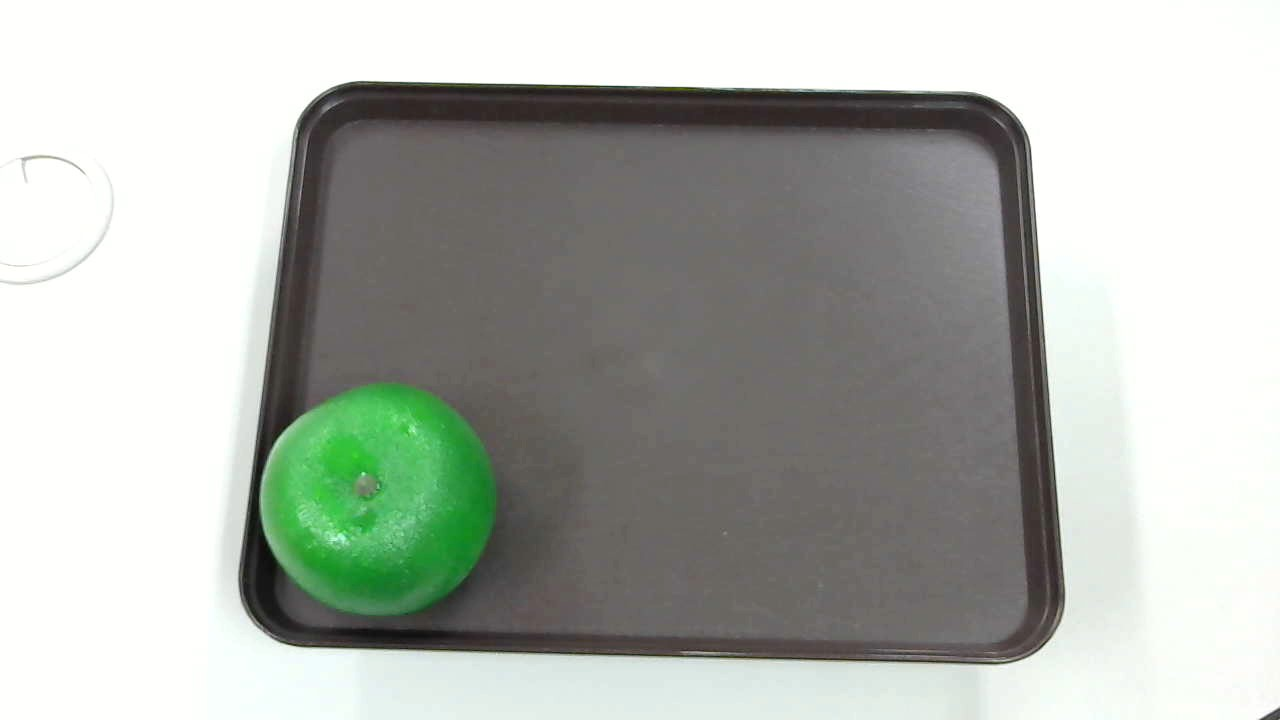green orange: (256, 380, 505, 622)
